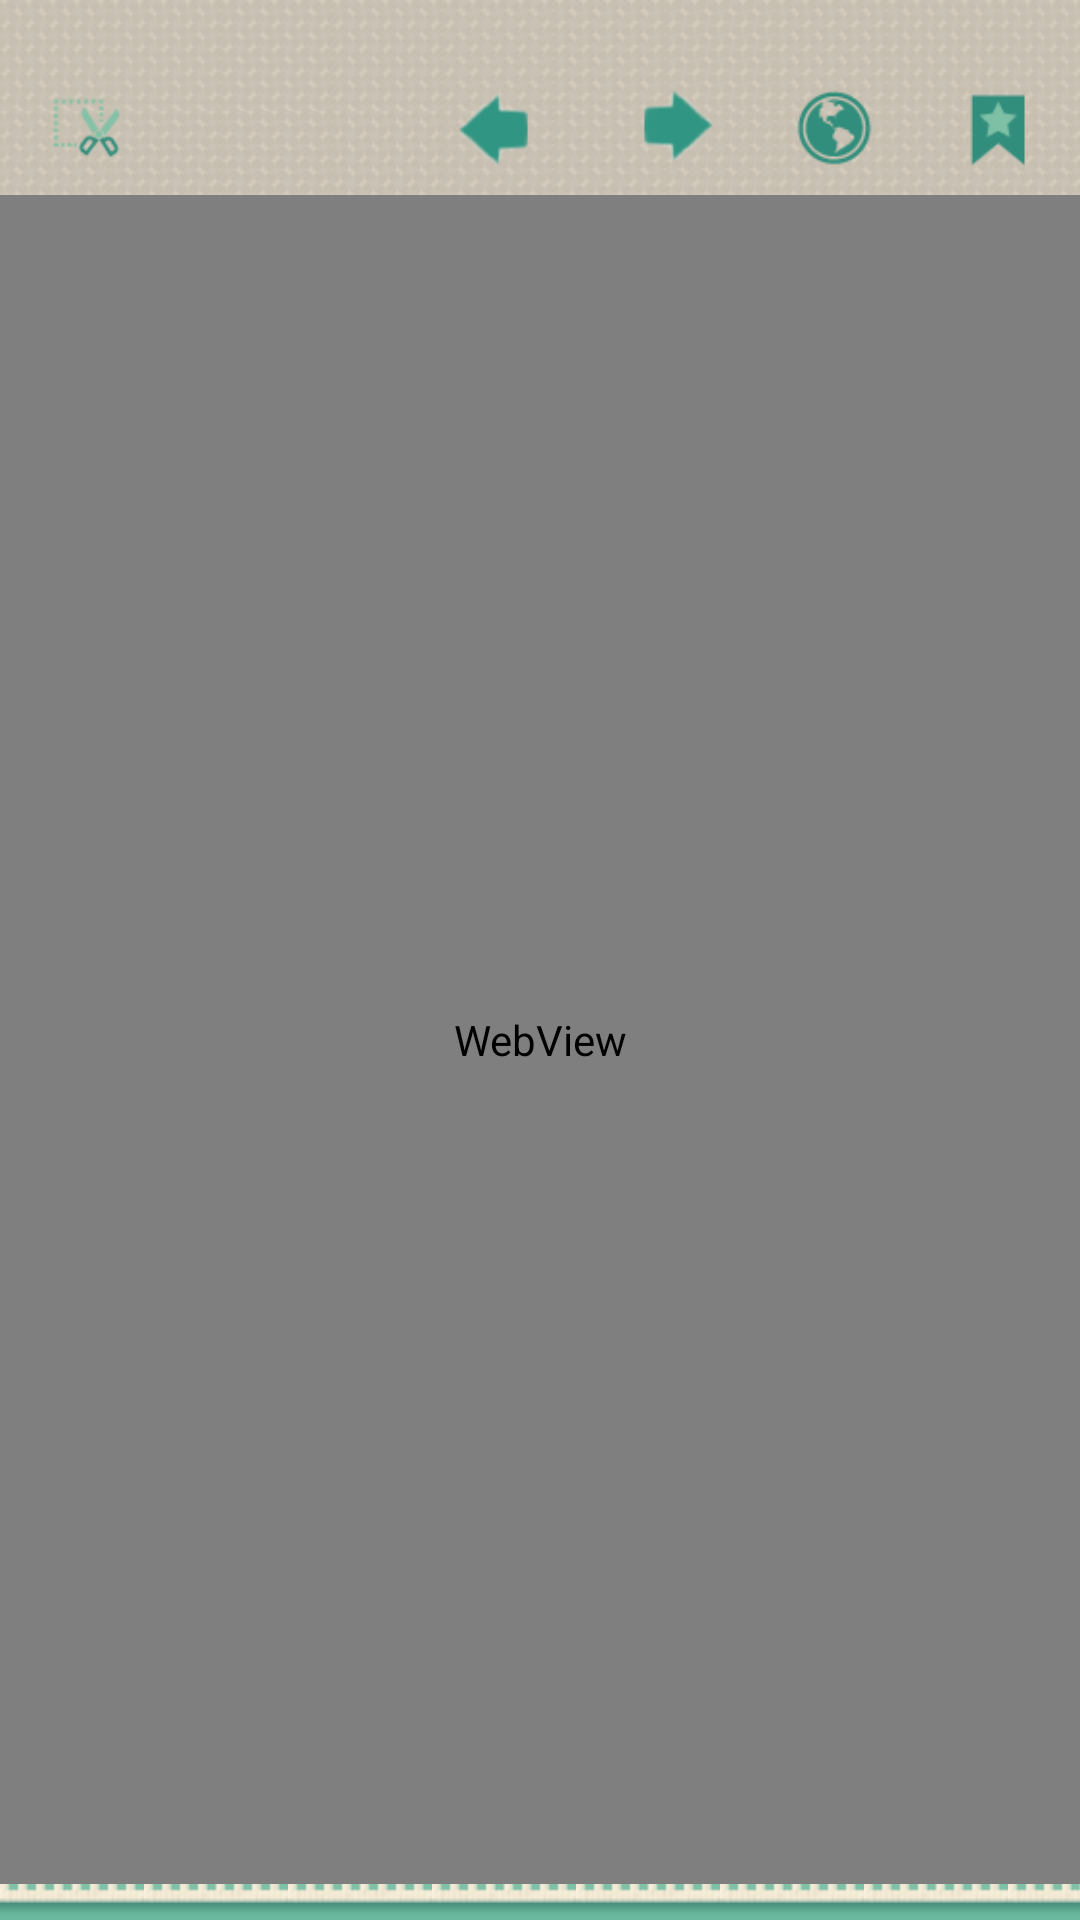

Icons on this 1080 x 1920 Android screen, each with the point to tap as [x,y]:
bookmarkl: [997,129]
crop: [86,128]
pageback: [494,129]
pagenext: [678,125]
url: [834,128]
